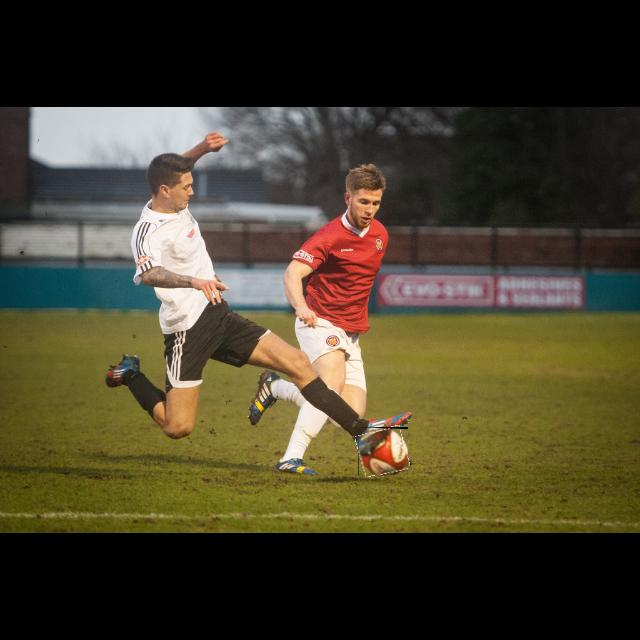Football: (358, 427, 408, 475)
